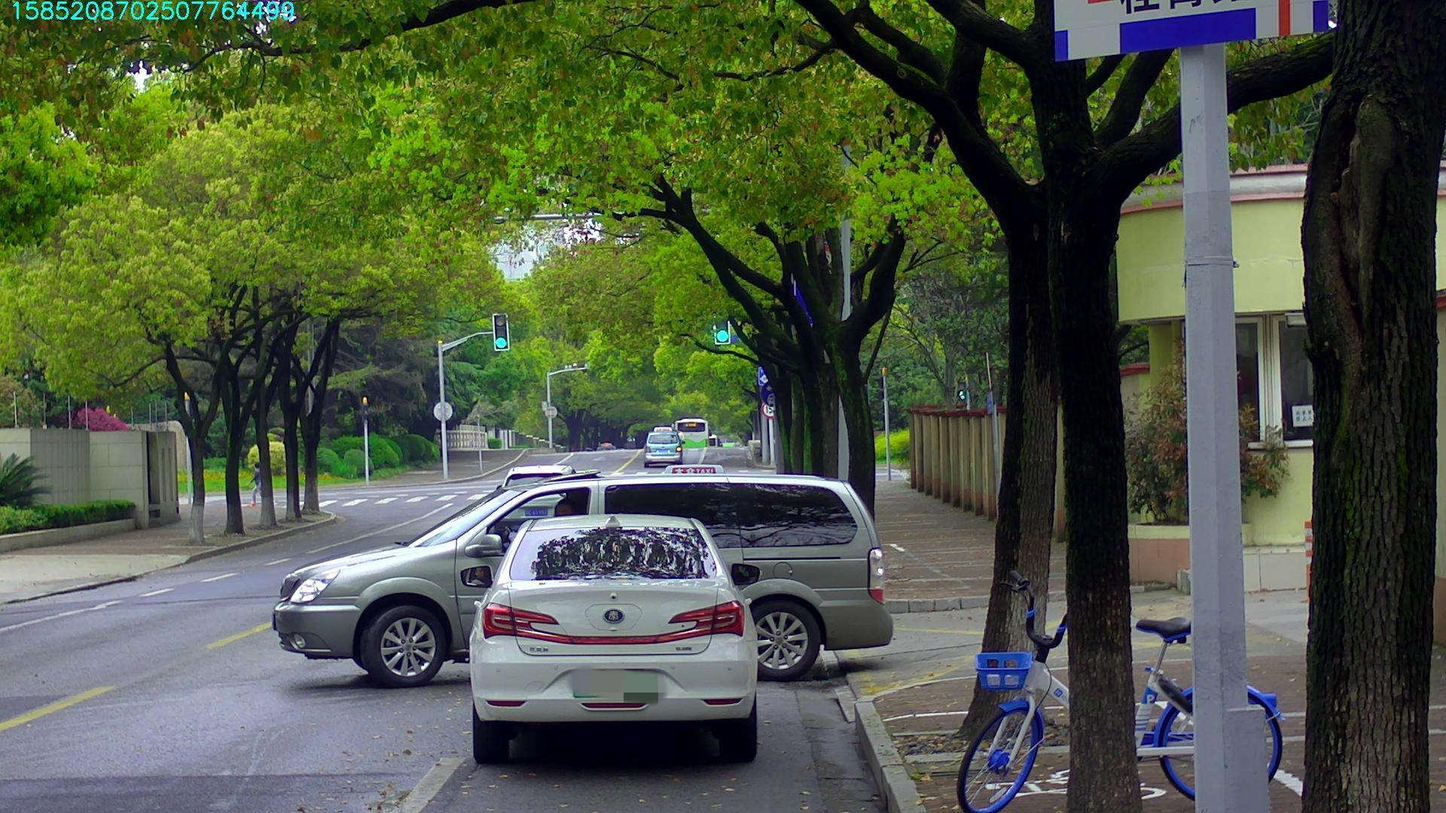green: (493, 314, 508, 349), (714, 318, 728, 343)
